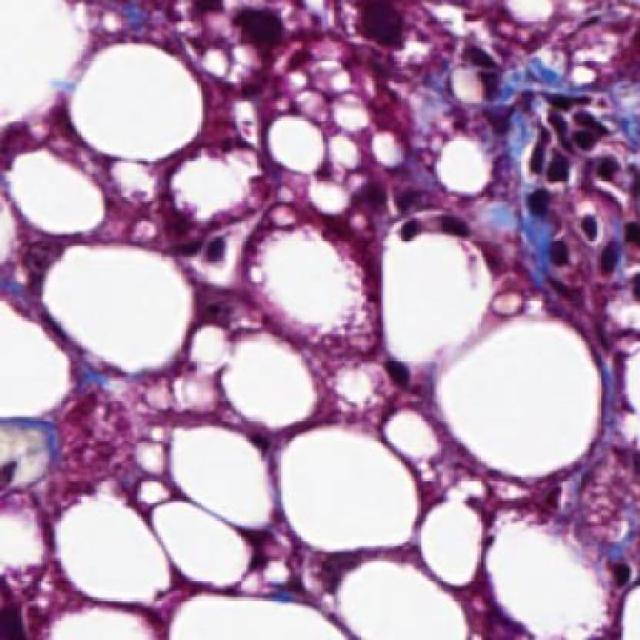inflammation: (522, 93, 634, 254), (335, 0, 451, 83), (211, 0, 316, 91)
